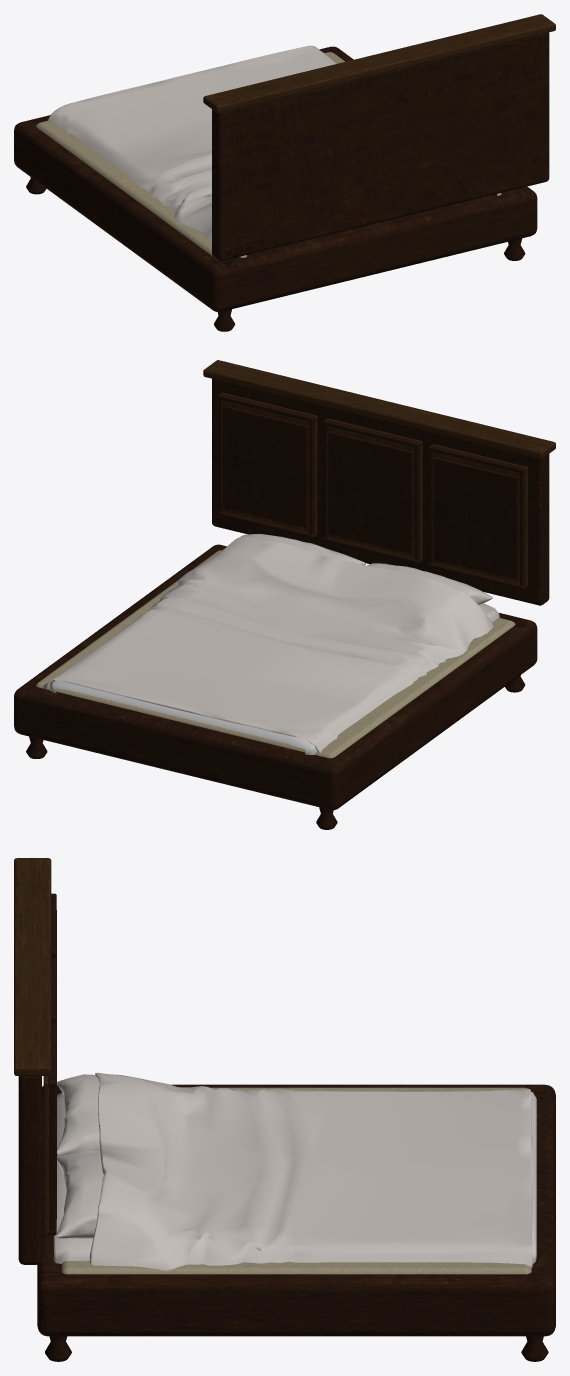
Rendered from luxury-cane-bed.glb.
The picture shows the model from 3 angles, top to bottom: view 1: azimuth 30°, elevation 25°; view 2: azimuth 150°, elevation 25°; view 3: azimuth 270°, elevation 25°; orthographic projection. The views are drawn at different scales.
Visible parts, largest first — view 1: walnut_0, heritage_linen_2, oak_8, linen_1; view 2: walnut_0, heritage_linen_2, oak_8, linen_1; view 3: heritage_linen_2, walnut_0, oak_8, linen_1.
Part boxes in pixels (<box>): walnut_0: <box>14,32,549,331</box>; heritage_linen_2: <box>48,45,501,257</box>; oak_8: <box>203,14,555,112</box>; linen_1: <box>36,52,345,258</box>; walnut_0: <box>14,378,549,829</box>; heritage_linen_2: <box>43,534,499,754</box>; oak_8: <box>203,360,555,586</box>; linen_1: <box>36,550,515,758</box>; heritage_linen_2: <box>53,1072,536,1270</box>; walnut_0: <box>18,893,555,1361</box>; oak_8: <box>14,858,51,1234</box>; linen_1: <box>61,1087,531,1274</box>.
Bounding box in the file's own units: 2.13 × 1.44 × 2.32.
4 materials, 4 textured.
